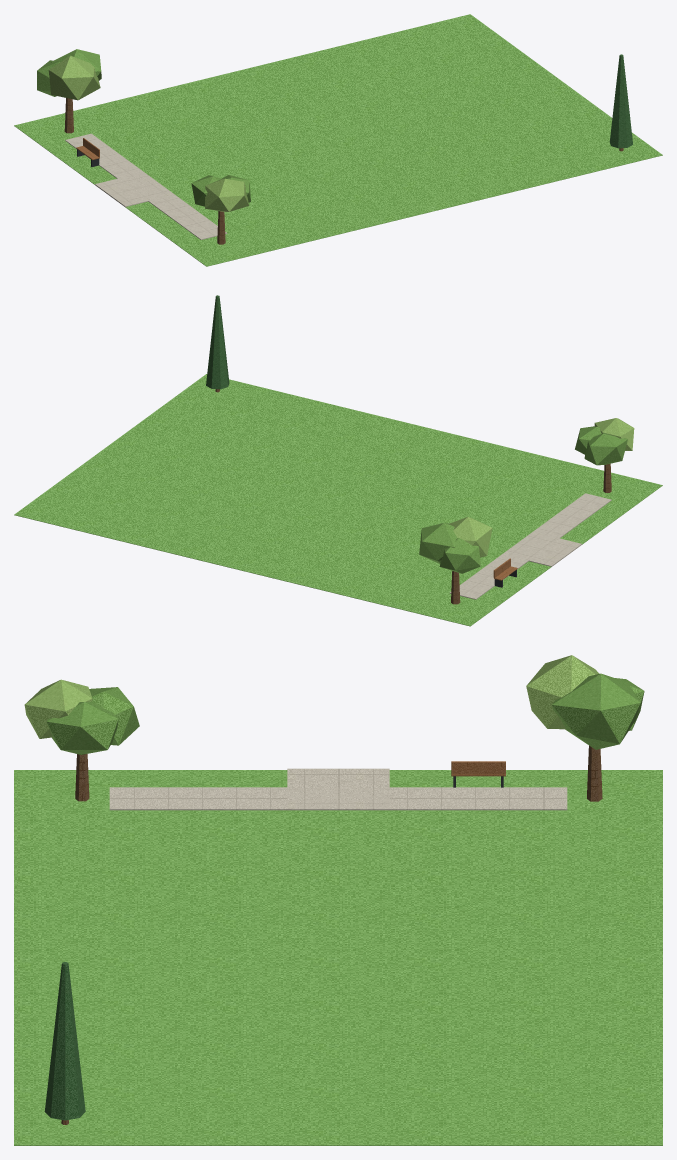
The model's file is sports_dance.glb.
3 views of the same model, one above another, from view 1: azimuth 30°, elevation 25°; view 2: azimuth 150°, elevation 25°; view 3: azimuth 270°, elevation 25° (orthographic). The views are drawn at different scales.
Visible parts, largest first — view 1: SD_Lawn, SD_Apron, SD_Tree0_Leaf1, SD_Tree0_Leaf0, SD_Tree2_Crown, SD_Tree0_Trunk, SD_Bench0; view 2: SD_Lawn, SD_Apron, SD_Tree0_Leaf0, SD_Tree0_Leaf1, SD_Tree2_Crown, SD_Tree0_Trunk; view 3: SD_Lawn, SD_Apron, SD_Tree0_Leaf0, SD_Tree0_Leaf1, SD_Tree2_Crown, SD_Tree0_Trunk, SD_Bench0.
Part boxes in pixels (left/top/right/bottom): SD_Lawn: left=14, top=14, right=662, bottom=266; SD_Apron: left=65, top=133, right=227, bottom=239; SD_Tree0_Leaf1: left=48, top=55, right=249, bottom=211; SD_Tree0_Leaf0: left=37, top=49, right=250, bottom=206; SD_Tree2_Crown: left=609, top=54, right=632, bottom=148; SD_Tree0_Trunk: left=64, top=98, right=623, bottom=244; SD_Bench0: left=76, top=138, right=99, bottom=166; SD_Lawn: left=14, top=374, right=662, bottom=626; SD_Apron: left=450, top=493, right=611, bottom=599; SD_Tree0_Leaf0: left=419, top=426, right=627, bottom=573; SD_Tree0_Leaf1: left=449, top=418, right=634, bottom=557; SD_Tree2_Crown: left=206, top=295, right=229, bottom=389; SD_Tree0_Trunk: left=215, top=389, right=611, bottom=604; SD_Lawn: left=14, top=770, right=662, bottom=1145; SD_Apron: left=109, top=768, right=567, bottom=810; SD_Tree0_Leaf0: left=46, top=673, right=644, bottom=754; SD_Tree0_Leaf1: left=24, top=655, right=599, bottom=738; SD_Tree2_Crown: left=44, top=962, right=85, bottom=1120; SD_Tree0_Trunk: left=61, top=745, right=602, bottom=1124; SD_Bench0: left=451, top=761, right=505, bottom=787.
Bounding box in the file's own units: 26 × 5.2 × 19.
8 materials, 8 textured.
